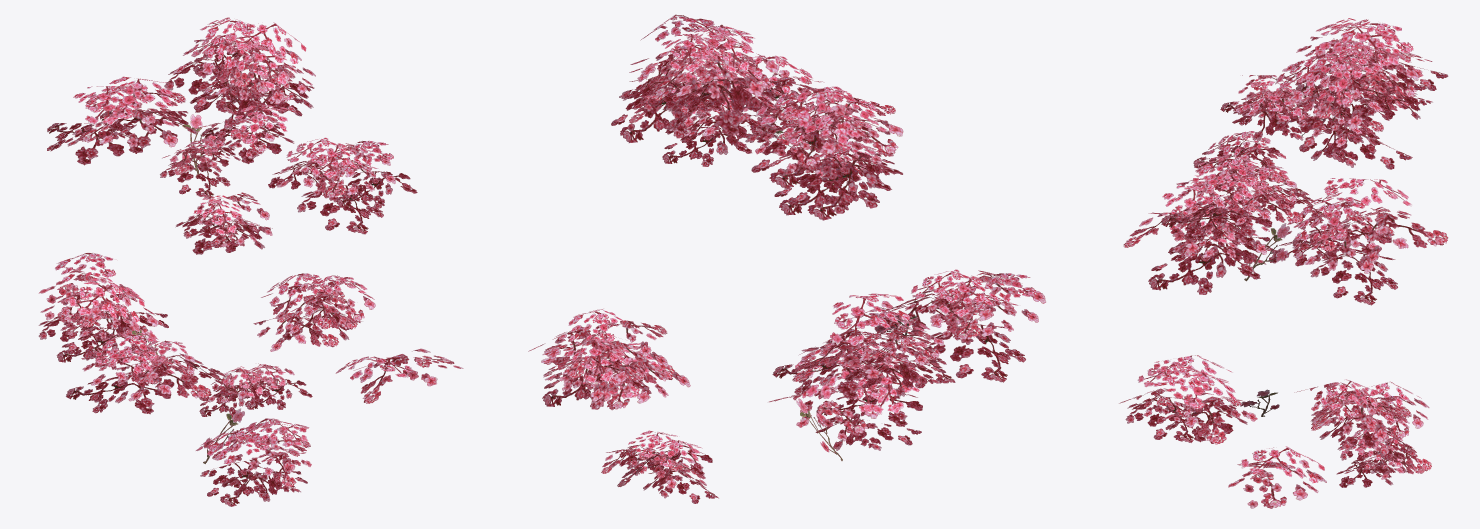
The model's file is jd_taohua_1.FBX.
3 views of the same model, side by side, from view 1: azimuth 30°, elevation 25°; view 2: azimuth 150°, elevation 25°; view 3: azimuth 270°, elevation 25° (orthographic). The views are drawn at different scales.
Parts seen in each view (by area): view 1: jd_taohua_1; view 2: jd_taohua_1; view 3: jd_taohua_1.
Boxes of the visible parts, x1,y1,x2,y2 form: jd_taohua_1: [38, 17, 463, 506]; jd_taohua_1: [528, 14, 1045, 503]; jd_taohua_1: [1119, 18, 1448, 508].
Bounding box in the file's own units: 370 × 343 × 272.
